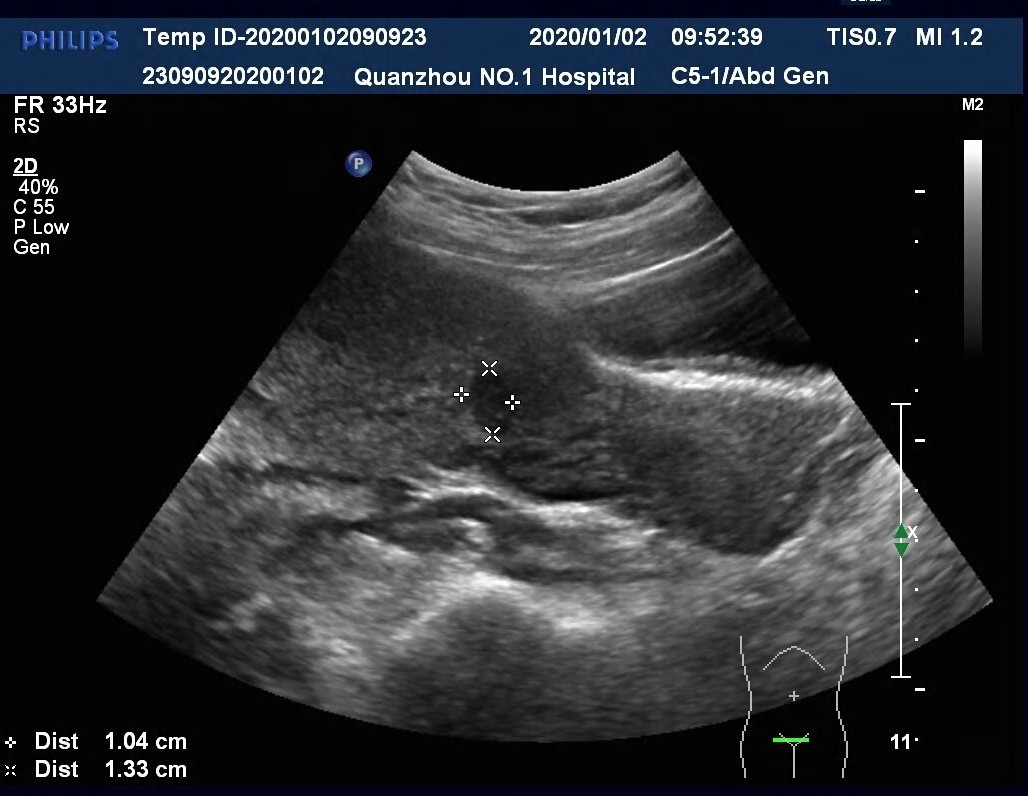肌瘤: (467, 371, 515, 427)
